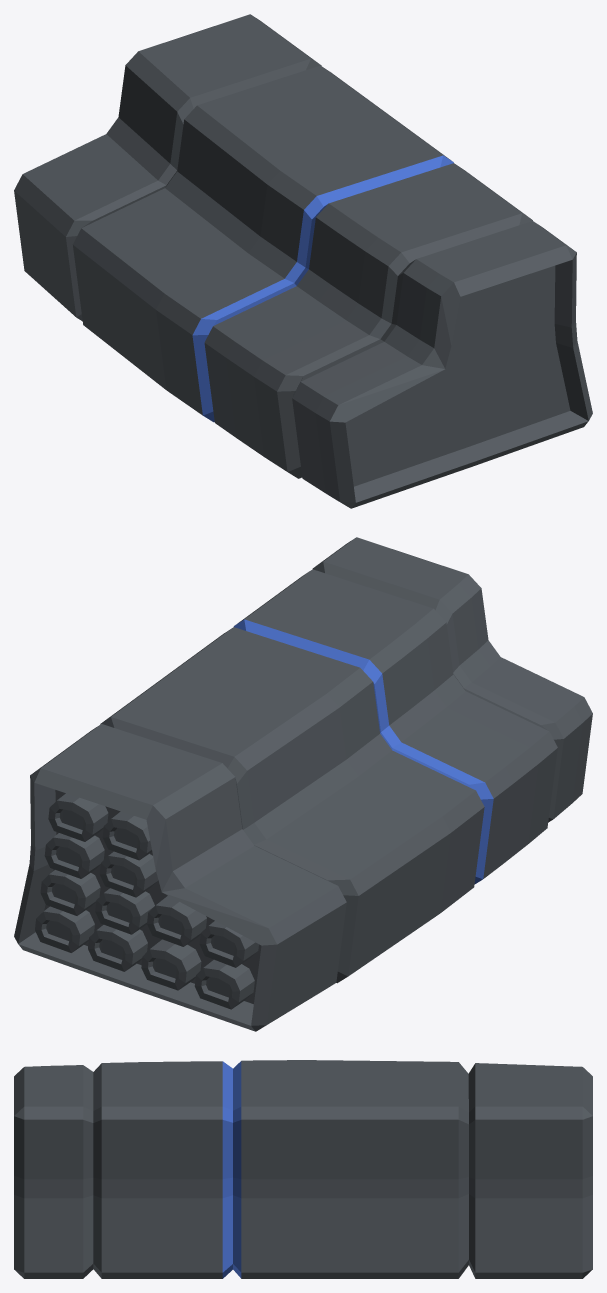
The model's file is Mothership_02_Wing_Left_Blue.fbx.
3 renders of one model, top to bottom at view 1: azimuth 30°, elevation 25°; view 2: azimuth 150°, elevation 25°; view 3: azimuth 270°, elevation 25°, orthographic. The views are drawn at different scales.
Parts seen in each view (by area): view 1: Mothership_02_Wing_Left_Blue; view 2: Mothership_02_Wing_Left_Blue; view 3: Mothership_02_Wing_Left_Blue.
Boxes of the visible parts, <box> form: Mothership_02_Wing_Left_Blue: <box>14,14,592,508</box>; Mothership_02_Wing_Left_Blue: <box>14,537,592,1031</box>; Mothership_02_Wing_Left_Blue: <box>14,1060,592,1278</box>.
Size of the model in its own units: 902 by 652 by 1832.
2 materials, 2 textured.
